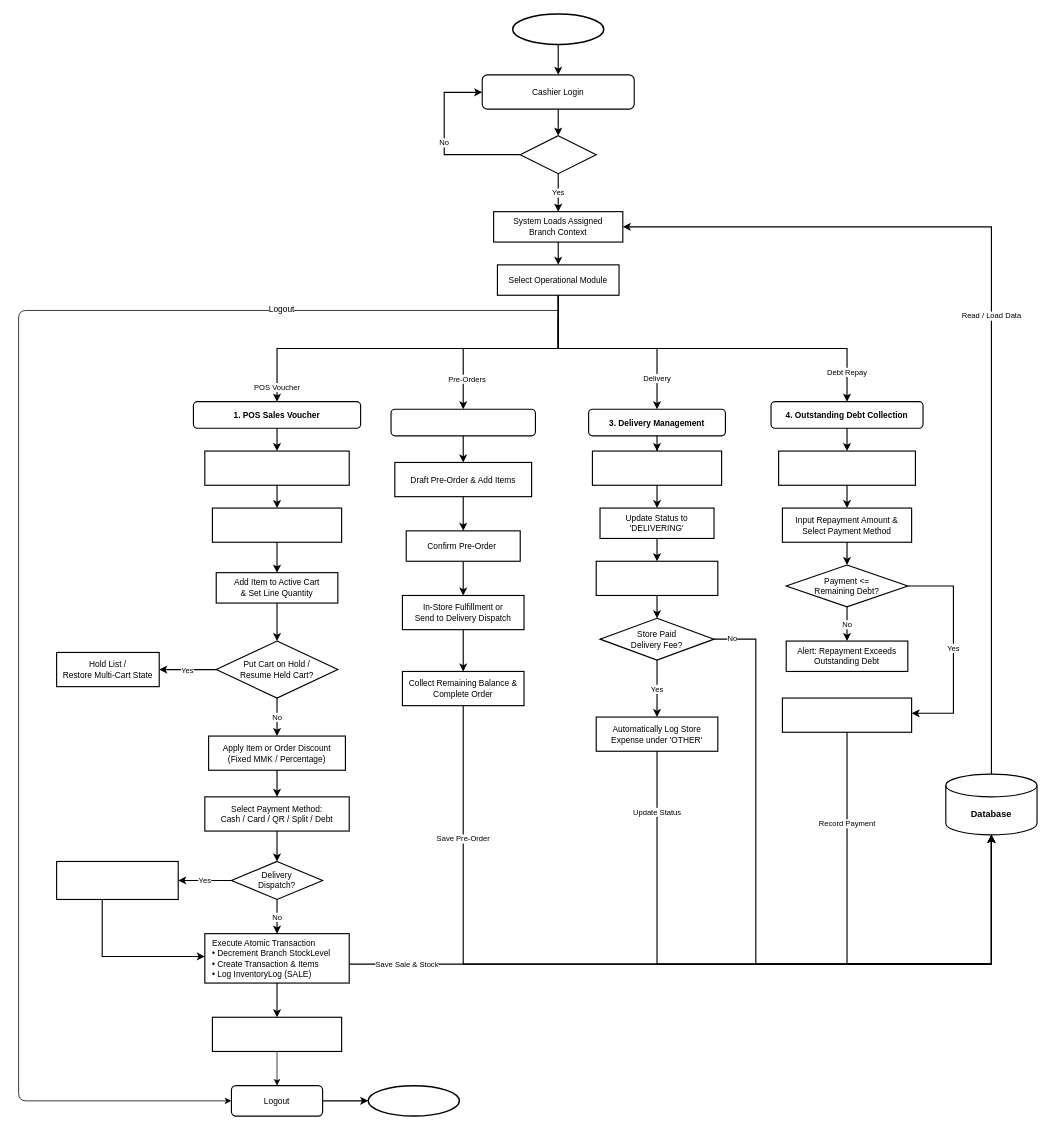
The diagram is 1051 pixels wide and 1129 high, and some of its shapes have lost their labels. The shapes that lost their labels are listed below. From the top down, each one's box as (x1, y1, x2, y2) in pixels, then its label:
(511, 13, 604, 45): Start
(519, 135, 596, 174): Valid?
(390, 408, 536, 436): 2. Sales Orders / Pre-Orders
(204, 450, 349, 485): Search Product by Name
(592, 450, 722, 485): View Pending Deliveries & Assign Courier Service
(778, 450, 916, 485): Search Customer Profile & View Overdue Invoice
(212, 507, 342, 542): Select Variant Modal (Size, Color, Unit Price)
(595, 560, 718, 596): Confirm 'DELIVERED' & Deduct Physical Stock
(782, 697, 912, 732): Create OrderPayment Record & Update Customer Balance
(56, 861, 178, 900): Enter Recipient Name, Phone, Address & Delivery Fee Payer
(212, 1016, 342, 1052): Print Receipt Voucher / Invoice Document
(367, 1085, 460, 1116): End
